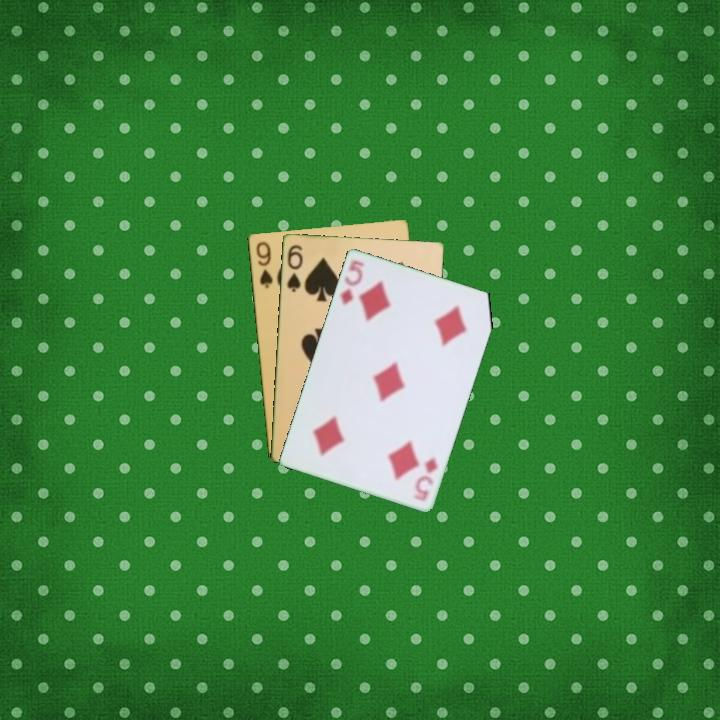5d: (336, 256, 367, 308), (409, 453, 440, 504)
6s: (283, 241, 305, 295)
9s: (252, 238, 275, 291)
